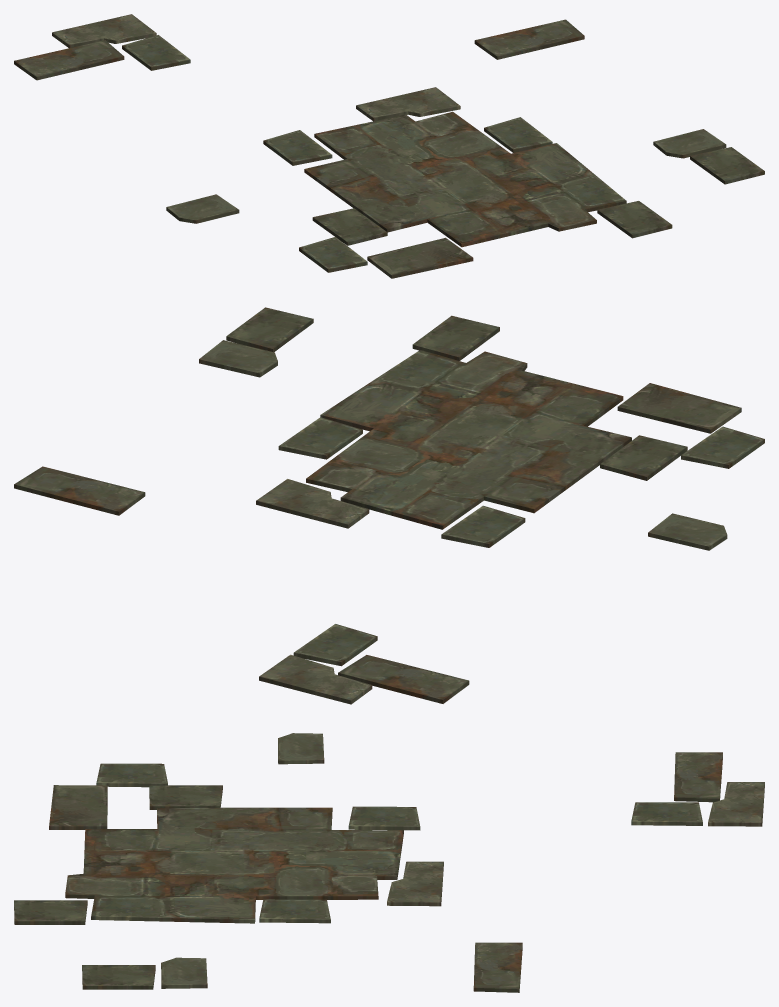
Rendered from common_yewai_shiban02.FBX.
The picture shows the model from 3 angles, top to bottom: view 1: azimuth 30°, elevation 25°; view 2: azimuth 150°, elevation 25°; view 3: azimuth 270°, elevation 25°; orthographic projection. The views are drawn at different scales.
Visible parts, largest first — view 1: common_yewai_shiban02; view 2: common_yewai_shiban02; view 3: common_yewai_shiban02.
Part boxes in pixels (x1,y1,x2,y2): common_yewai_shiban02: (14,14,764,278); common_yewai_shiban02: (14,307,764,704); common_yewai_shiban02: (14,733,764,992).
Bounding box in the file's own units: 9.45 × 0.0625 × 11.71.
